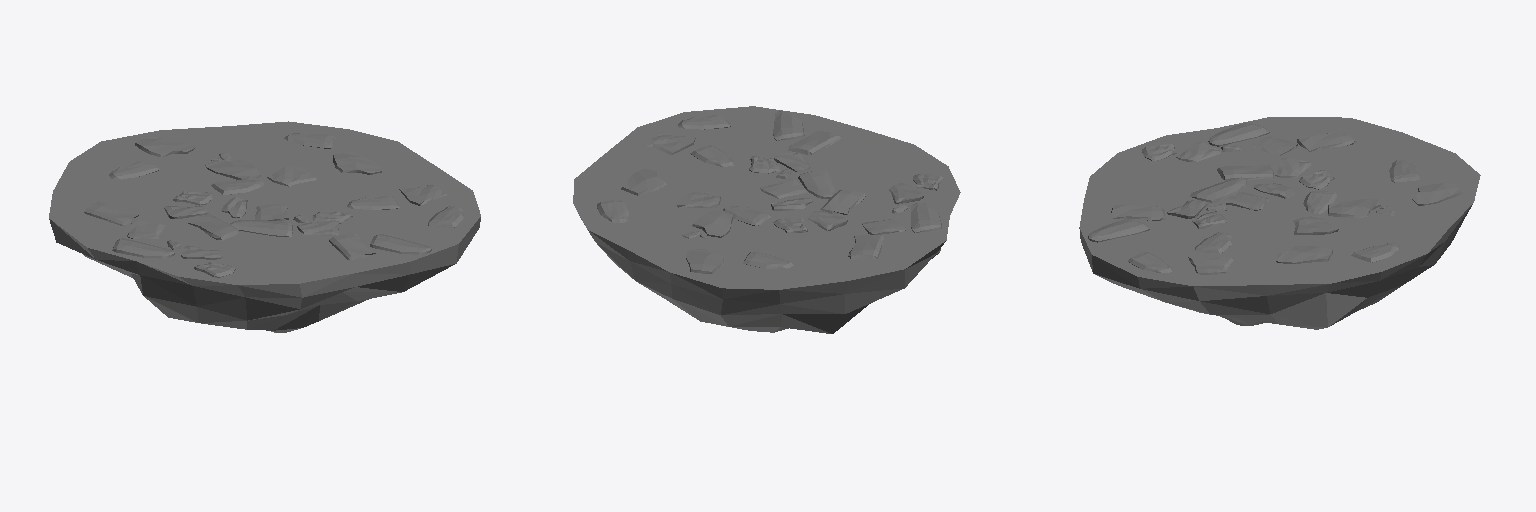
The model's file is Island_M.obj.
The picture shows the model from 3 angles: view 1: azimuth 30°, elevation 25°; view 2: azimuth 150°, elevation 25°; view 3: azimuth 270°, elevation 25°; orthographic projection.
Parts seen in each view (by area): view 1: M_Island, M_I_Stones; view 2: M_Island, M_I_Stones; view 3: M_Island, M_I_Stones.
Part boxes in pixels (x1,y1,x2,y2): M_Island: (49,121,480,332); M_I_Stones: (84,132,463,277); M_Island: (573,106,960,333); M_I_Stones: (597,111,944,273); M_Island: (1079,117,1480,329); M_I_Stones: (1088,122,1462,274).
Bounding box in the file's own units: 8.82 × 2.84 × 8.82.